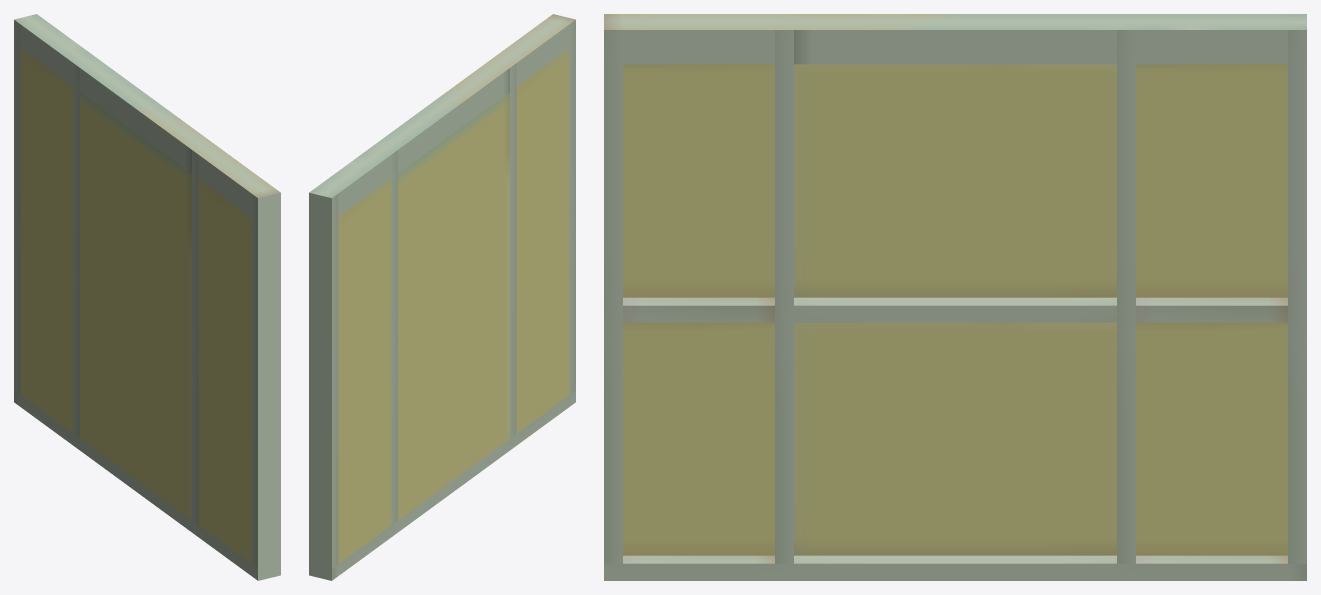
The model's file is WindowFrameOutside_01.fbx.
3 views of the same model, side by side, from view 1: azimuth 30°, elevation 25°; view 2: azimuth 150°, elevation 25°; view 3: azimuth 270°, elevation 25° (orthographic). The views are drawn at different scales.
Parts seen in each view (by area): view 1: WindowFrameOutside_01; view 2: WindowFrameOutside_01; view 3: WindowFrameOutside_01.
Boxes of the visible parts, x1,y1,x2,y2 form: WindowFrameOutside_01: (14, 14, 280, 580); WindowFrameOutside_01: (309, 14, 575, 580); WindowFrameOutside_01: (604, 14, 1306, 580).
Bounding box in the file's own units: 10 × 185 × 160.
Materials: 2 (2 with a texture image).
